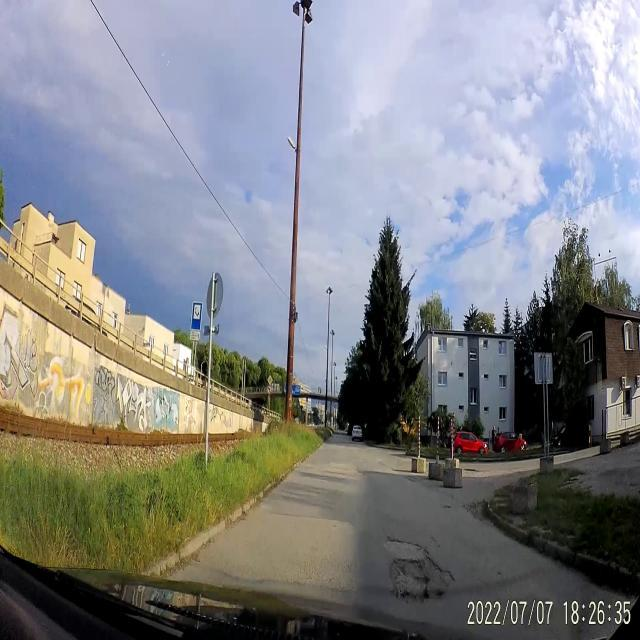Pothole: (384, 554, 456, 606), (382, 535, 430, 555), (440, 502, 452, 512)
